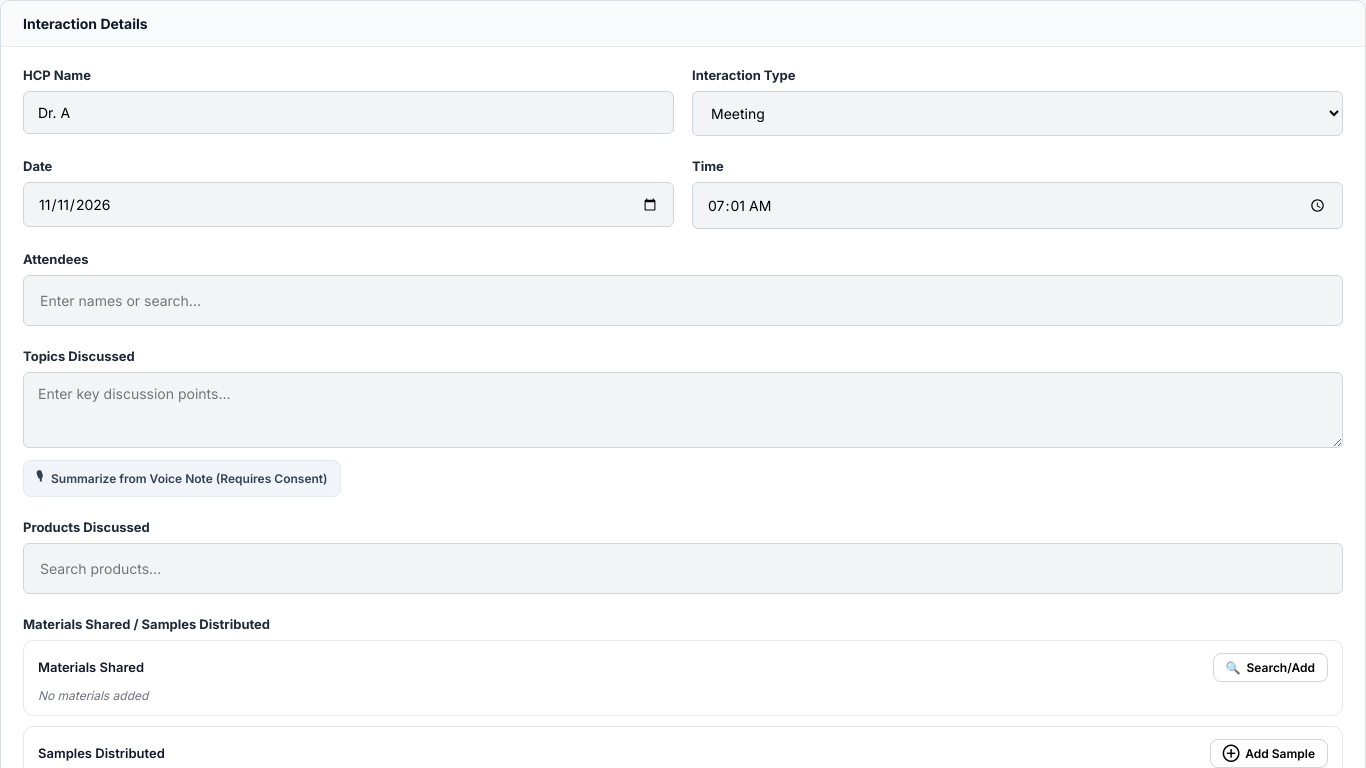
Test case: StructuredForm matches the brief mockup › HCP Name picker selects the HCP for the form
This screenshot has width=1366, height=768.
Replace the text in the dropdown labelled "HCP Name" with "priya". click: (348, 112)
box: [23,91,674,134]
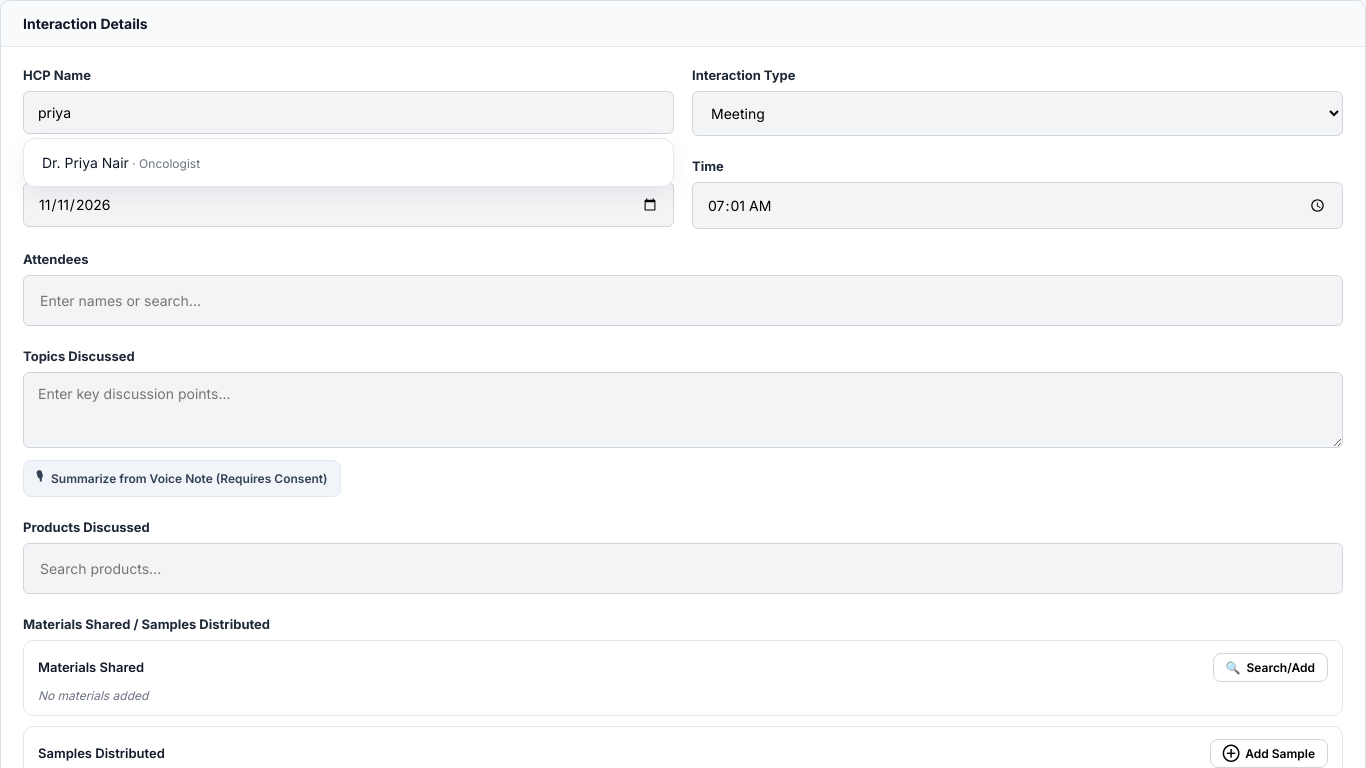
Press the mouse on the option "Dr. Priya Nair · Oncologist" at (121, 162), box [42,154,200,171]
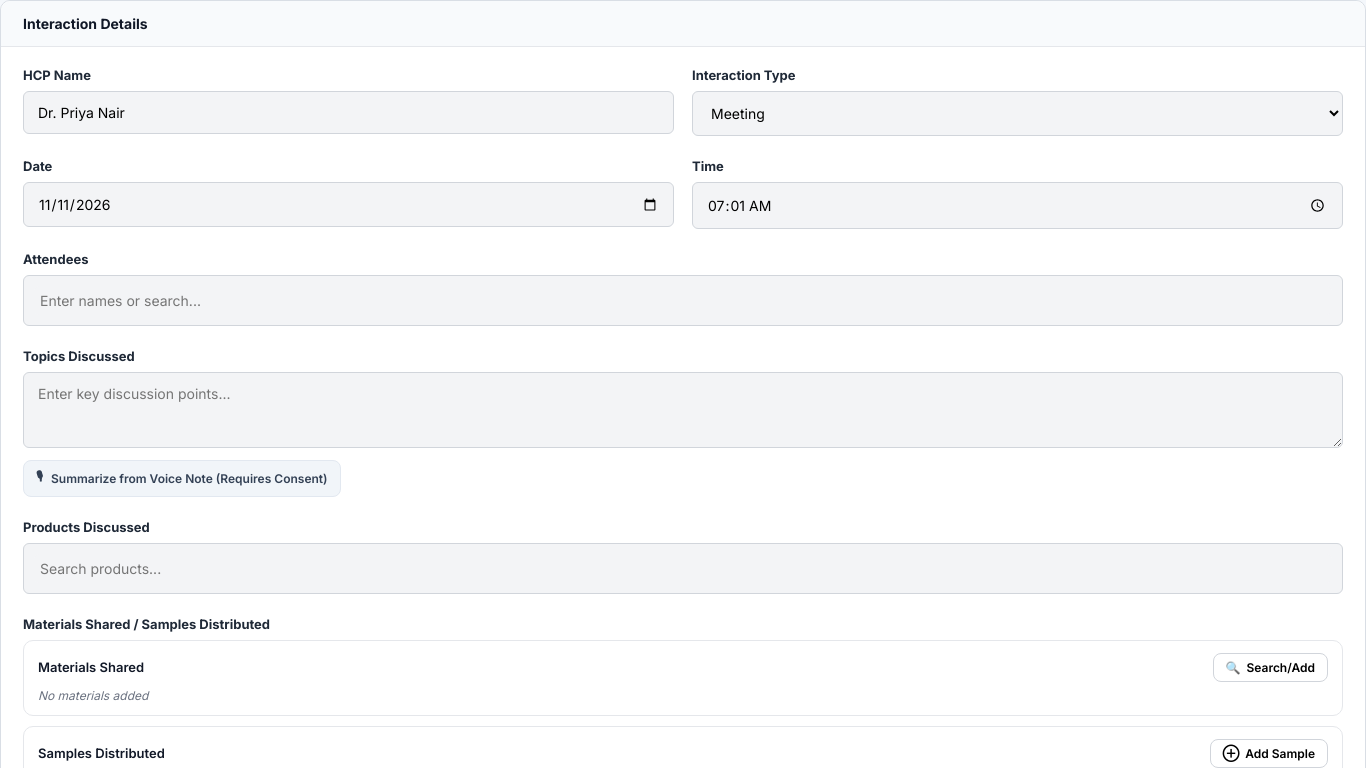
expect the dropdown labelled "HCP Name" holds "Dr. Priya Nair": met, box [23,91,674,134]
